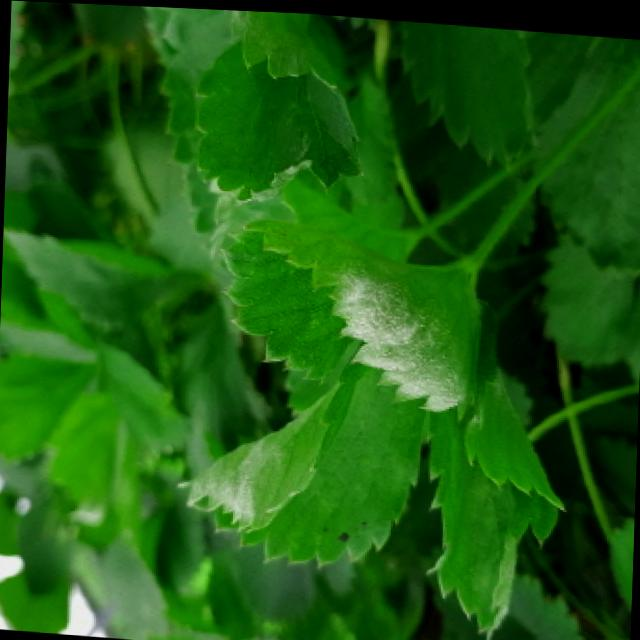Powdery Mildew Leaf: (218, 215, 482, 417), (174, 361, 427, 566)
